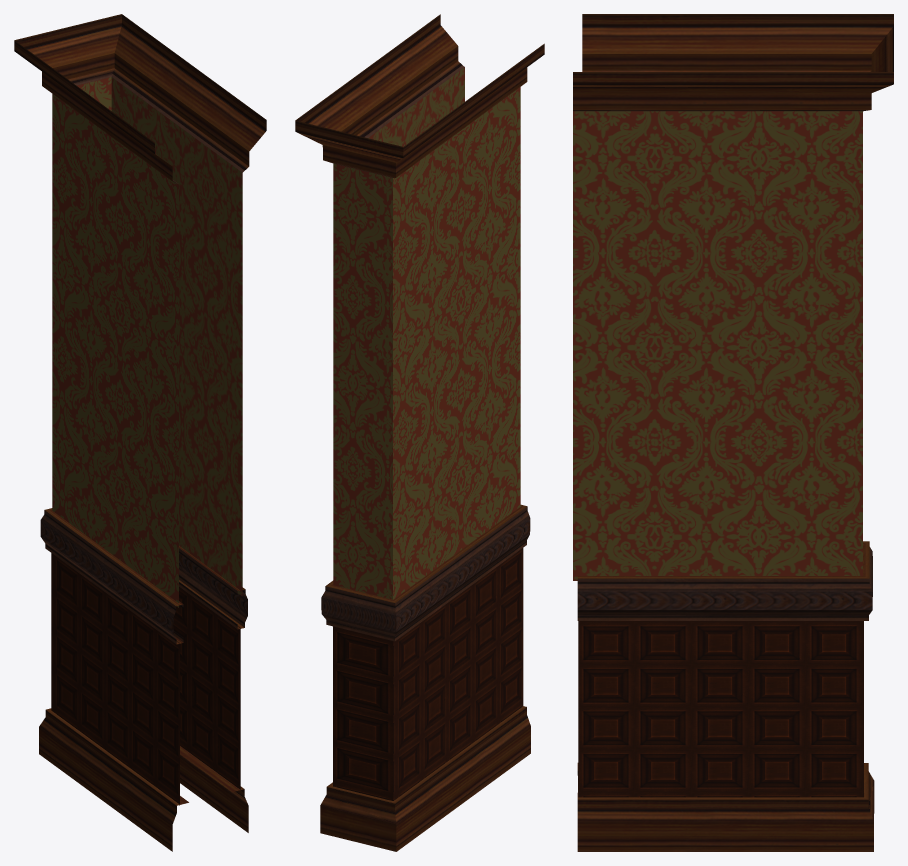
The model's file is Wall1Shortcube.fbx.
3 views of the same model, side by side, from view 1: azimuth 30°, elevation 25°; view 2: azimuth 150°, elevation 25°; view 3: azimuth 270°, elevation 25° (orthographic). The views are drawn at different scales.
Parts seen in each view (by area): view 1: SecretPassageDoor1.001; view 2: SecretPassageDoor1.001; view 3: SecretPassageDoor1.001.
Boxes of the visible parts, x1=… form: SecretPassageDoor1.001: x1=14, y1=14, x2=266, y2=851; SecretPassageDoor1.001: x1=295, y1=14, x2=544, y2=851; SecretPassageDoor1.001: x1=573, y1=14, x2=893, y2=851.
Size of the model in its own units: 44.52 by 281 by 104.
